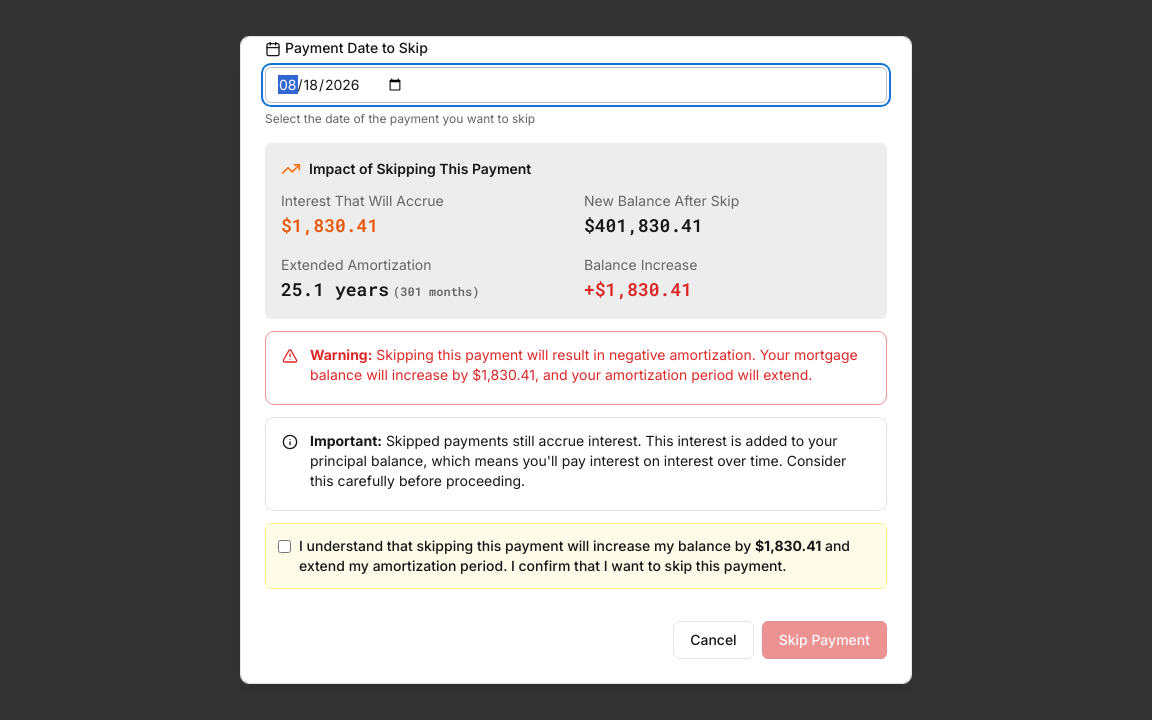
Test: SkipPaymentDialog › keeps Skip Payment button disabled until confirmation checkbox is checked
(page scrolled)
Expected: the button with test id "button-confirm-skip-payment" is disabled, [762, 621, 887, 659]
Click the checkbox with test id "checkbox-confirm-skip" at (284, 546), box [278, 540, 291, 553]
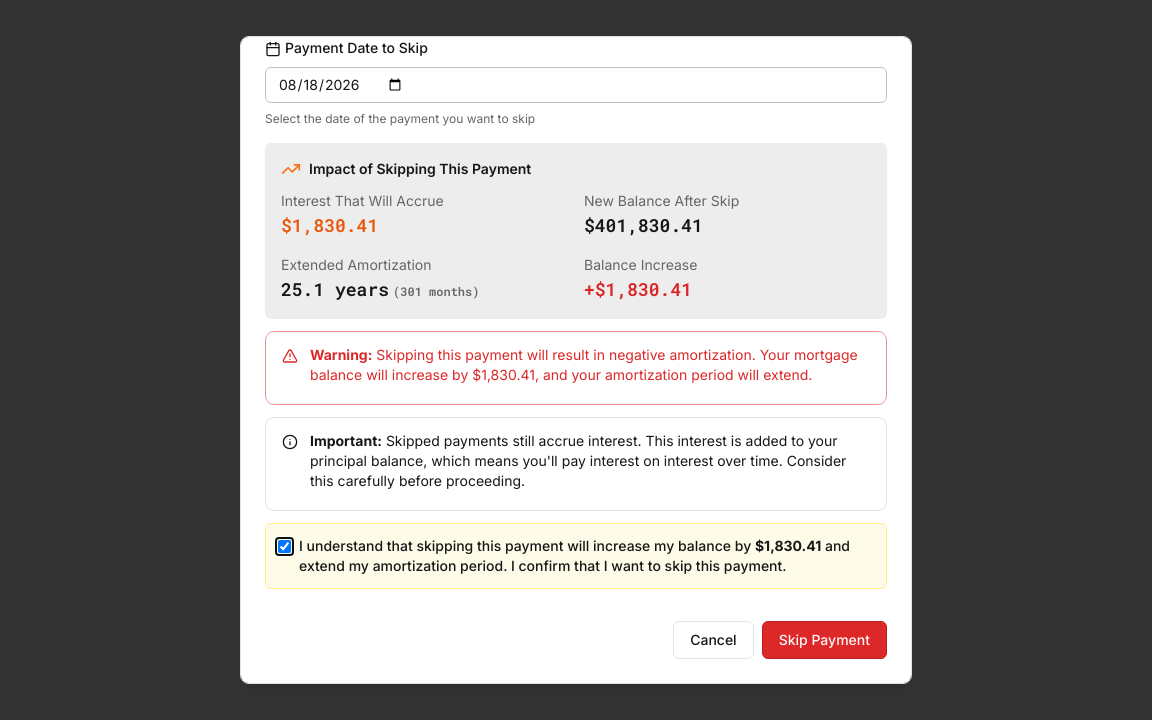
Now the checkbox with test id "checkbox-confirm-skip" is checked, box [278, 540, 291, 553]
Now the button with test id "button-confirm-skip-payment" is enabled, box [762, 621, 887, 659]
